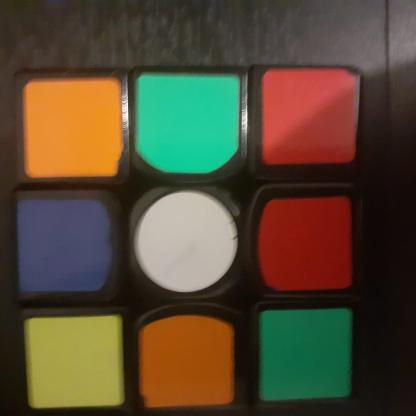cube: (11, 62, 364, 416)
